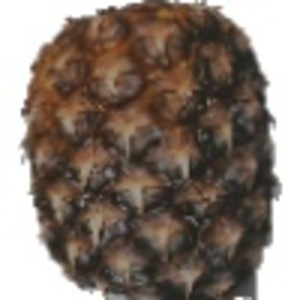abacaxi: (13, 2, 282, 292)
